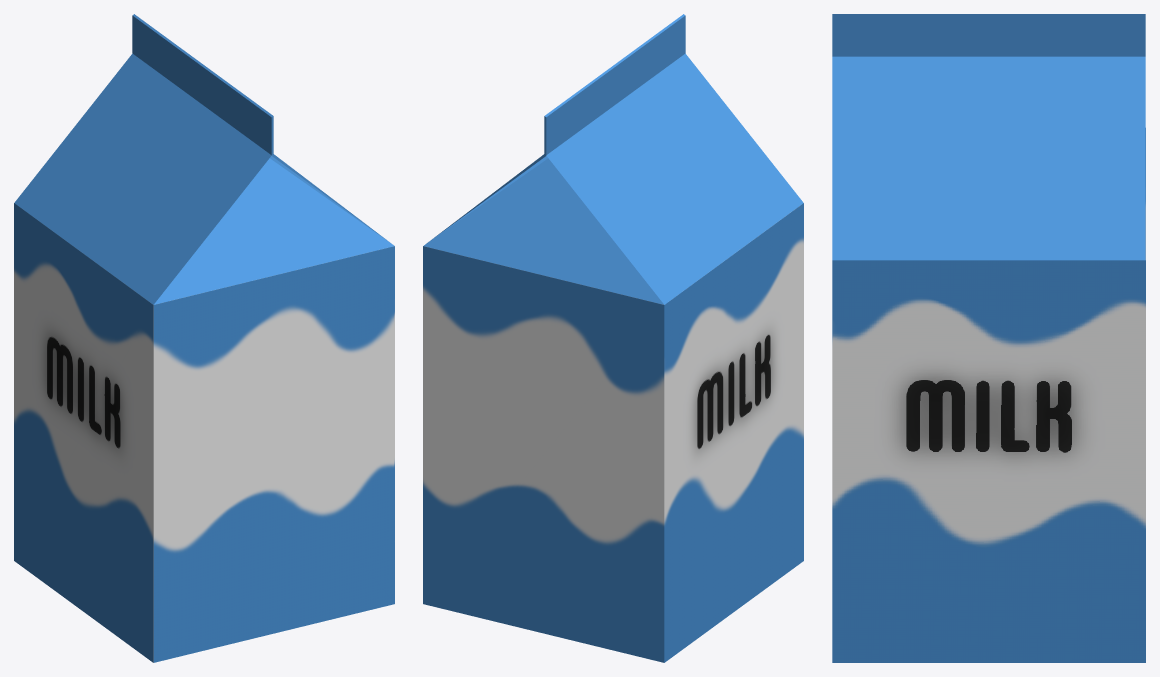
File: milk.gltf
3 renders of one model, left to right at view 1: azimuth 30°, elevation 25°; view 2: azimuth 150°, elevation 25°; view 3: azimuth 270°, elevation 25°, orthographic. The views are drawn at different scales.
Visible parts, largest first — view 1: Cube; view 2: Cube; view 3: Cube.
Part boxes in pixels (box(x1,y1,x2,y2)): Cube: box(14, 14, 394, 662); Cube: box(423, 14, 803, 662); Cube: box(832, 14, 1145, 662).
Size of the model in its own units: 2 by 4.1 by 2.
